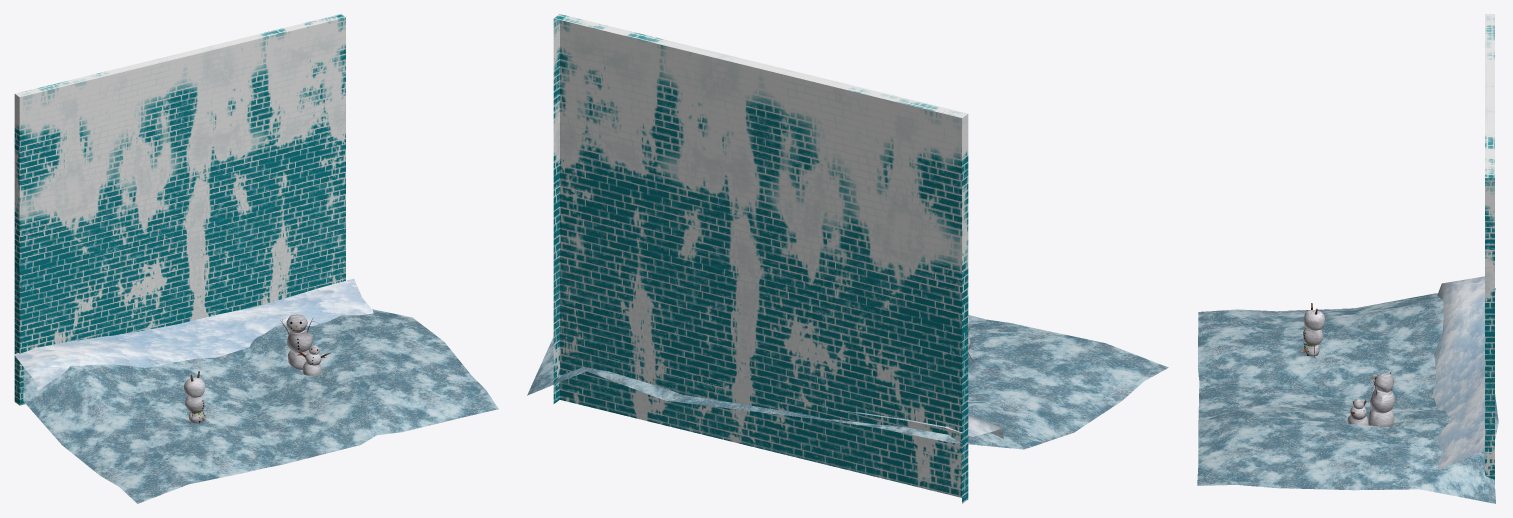
Rendered from SNOW LEVEL 02 .fbx.
3 renders of one model, left to right at view 1: azimuth 30°, elevation 25°; view 2: azimuth 150°, elevation 25°; view 3: azimuth 270°, elevation 25°, orthographic. The views are drawn at different scales.
Visible parts, largest first — view 1: snow_wall03, GROUND_GEO, SNOW_DUST_GEO3; view 2: snow_wall03, GROUND_GEO, SNOW_DUST_GEO3; view 3: GROUND_GEO, SNOW_DUST_GEO3, snow_wall03, polySurface281, polySurface244, polySurface279.
Part boxes in pixels (bbox=[...]): snow_wall03: bbox=[14, 14, 345, 405]; GROUND_GEO: bbox=[23, 309, 498, 503]; SNOW_DUST_GEO3: bbox=[14, 278, 373, 390]; snow_wall03: bbox=[553, 14, 968, 503]; GROUND_GEO: bbox=[527, 315, 1168, 449]; SNOW_DUST_GEO3: bbox=[614, 358, 1003, 438]; GROUND_GEO: bbox=[1197, 288, 1498, 503]; SNOW_DUST_GEO3: bbox=[1433, 276, 1484, 469]; snow_wall03: bbox=[1485, 14, 1494, 483]; polySurface281: bbox=[1369, 371, 1395, 413]; polySurface244: bbox=[1304, 303, 1325, 330]; polySurface279: bbox=[1368, 408, 1394, 427].
Size of the model in its own units: 44.78 by 34.5 by 29.69.
4 materials, 4 textured.
